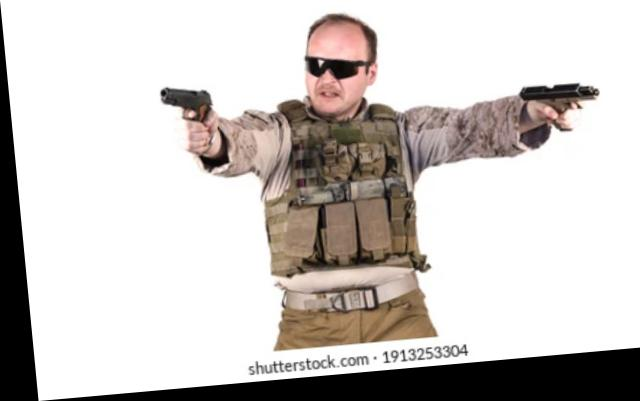other: (247, 17, 424, 351)
